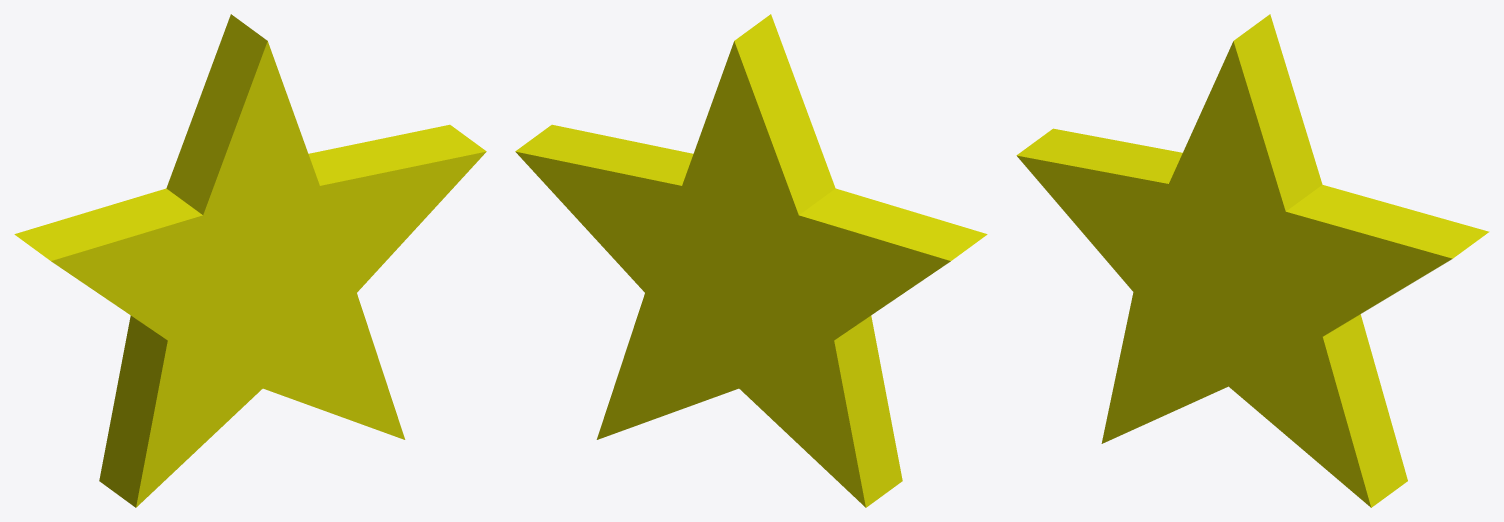
Rendered from SootingStar.fbx.
The picture shows the model from 3 angles, left to right: view 1: azimuth 30°, elevation 25°; view 2: azimuth 150°, elevation 25°; view 3: azimuth 330°, elevation 25°; orthographic projection.
Visible parts, largest first — view 1: pCylinder1; view 2: pCylinder1; view 3: pCylinder1.
Part boxes in pixels (left/top/right/bottom): pCylinder1: left=14, top=14, right=486, bottom=507; pCylinder1: left=515, top=14, right=987, bottom=507; pCylinder1: left=1016, top=14, right=1489, bottom=507.
Size of the model in its own units: 4.21 by 4.01 by 0.6143.
